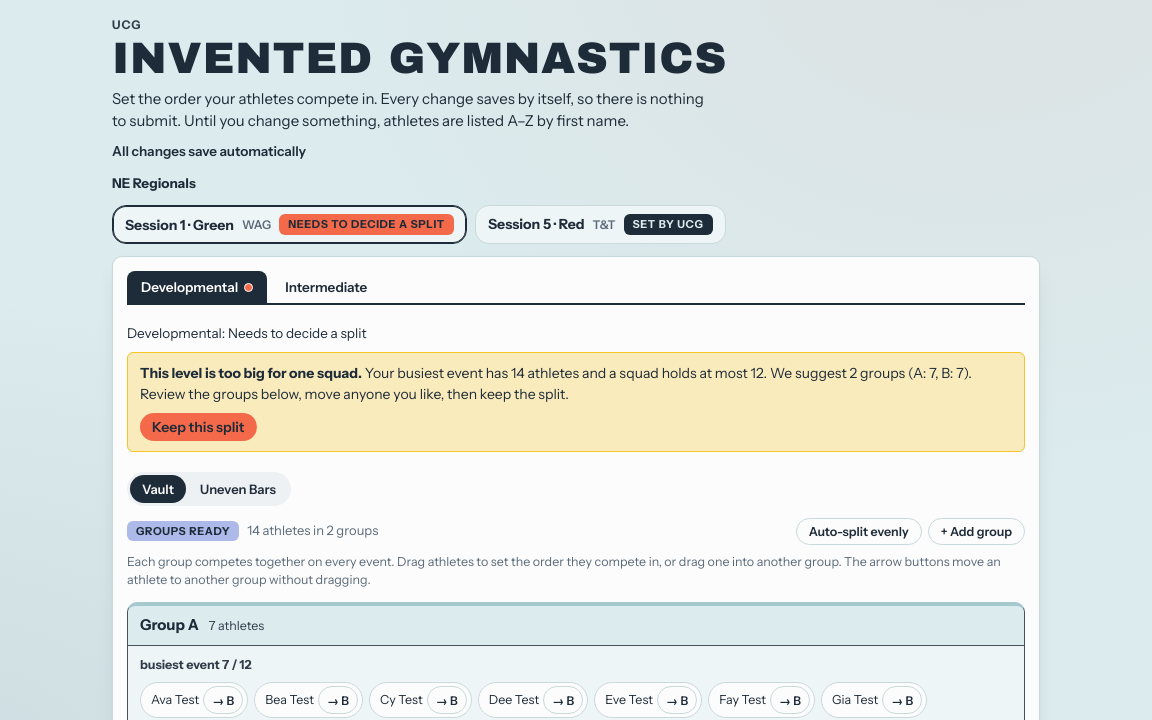
Scenario: club page › offers a suggested split when over the cap; Keep this split saves with splitDecided
Expected: the element with test id "club-split" shows "We suggest 2 groups (A: 7, B: 7)", [127,352,1025,452]
Expected: the button "Session 1 · Green WAG Needs to decide a split" is shown, [112,205,467,244]
Click the button "Keep this split" at point(198, 426), box [140,412,256,440]
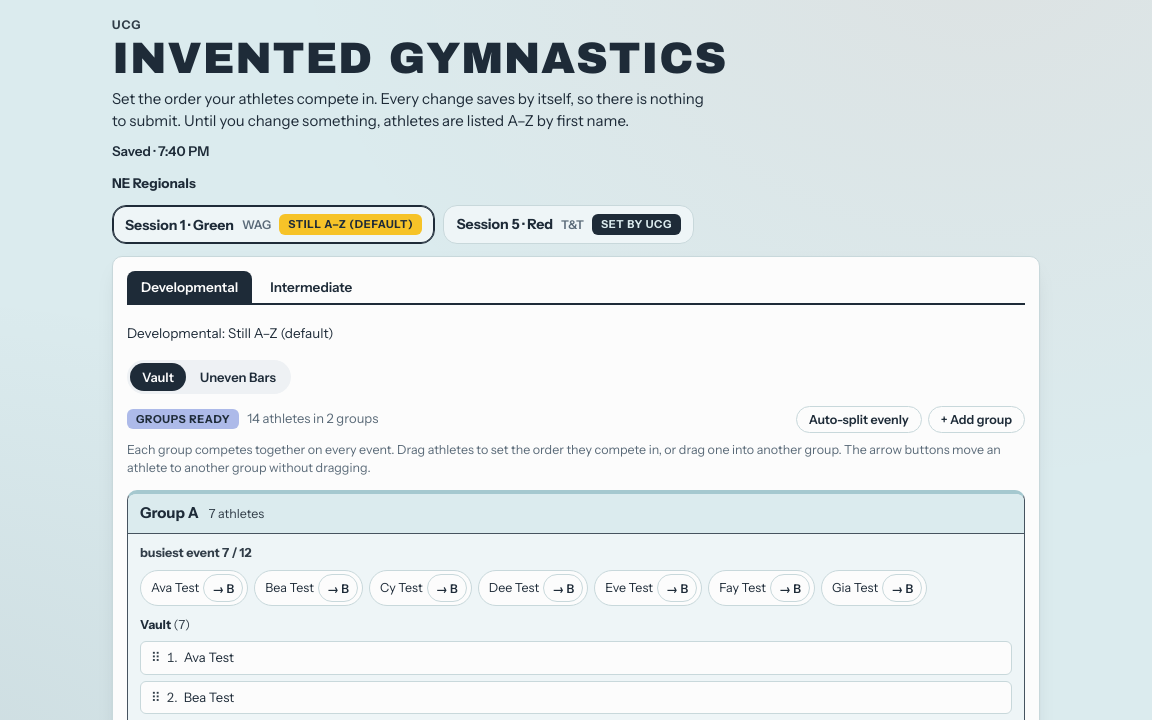
Expected: the element with test id "club-split" is gone
